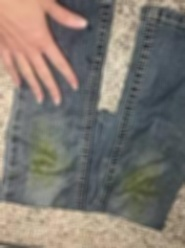earth: (30, 124, 59, 184), (121, 169, 156, 209)
